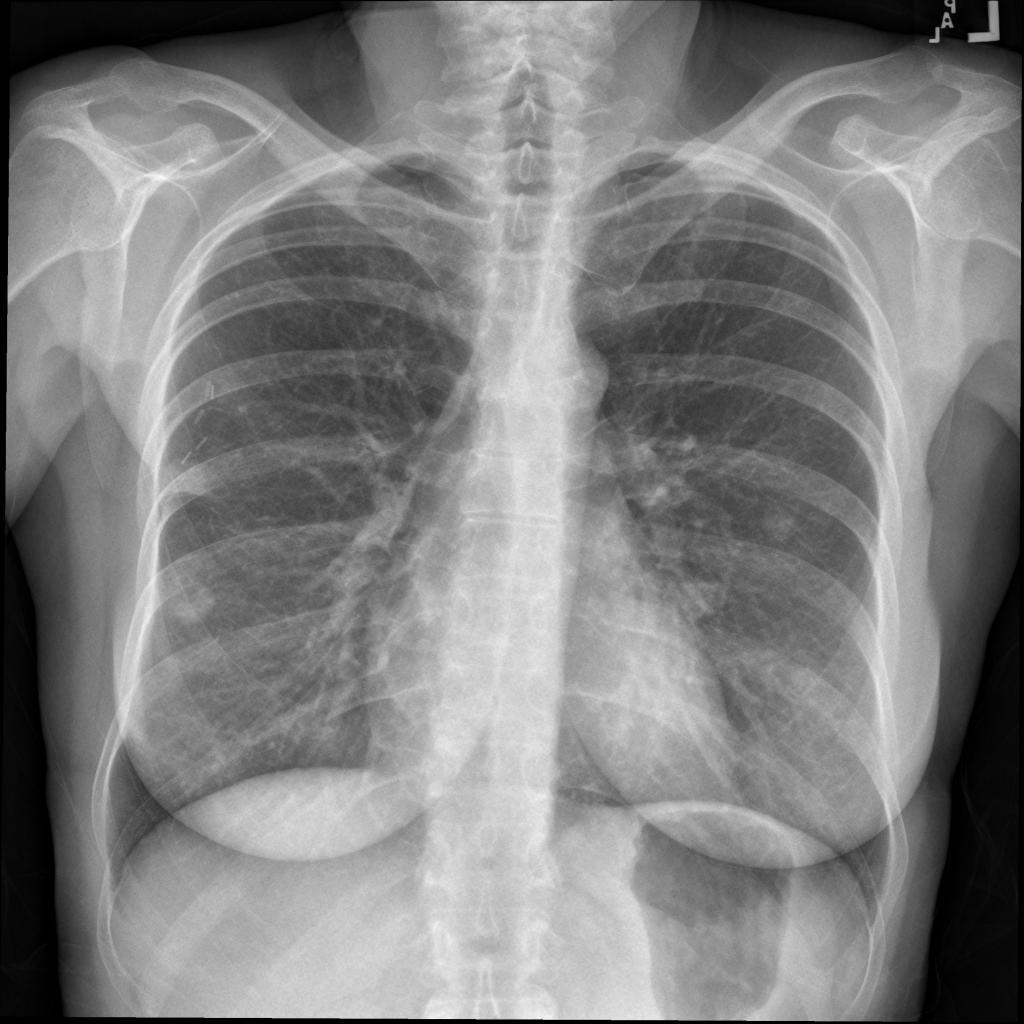Nodule: (311, 186, 345, 215), (243, 186, 270, 208)
